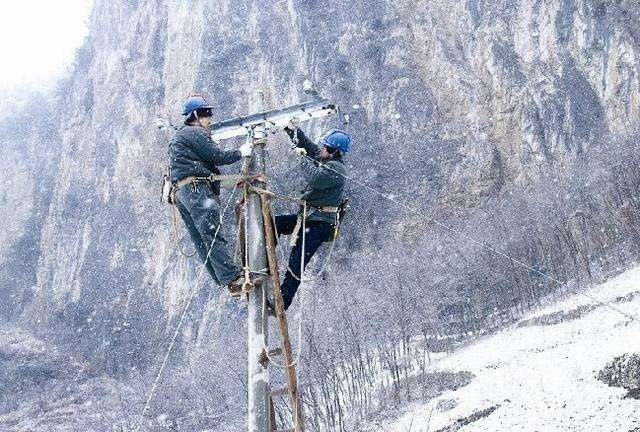blue: (179, 92, 214, 129), (318, 126, 352, 163)
